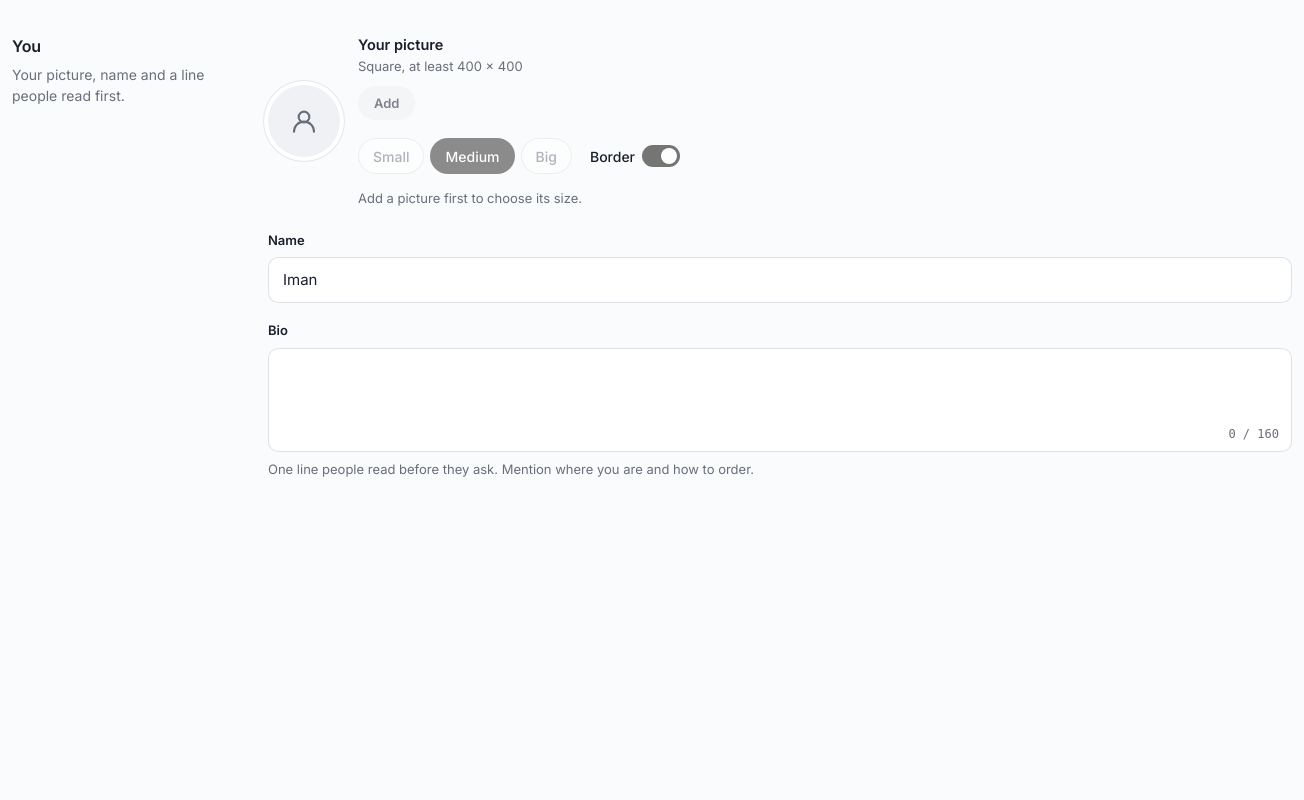
Test case: ProfileEditor › still offers Retry for a 5xx, with the server's own message
Type "!" into the field named "Display name".
click(780, 280); type("!")  # box [268, 257, 1292, 303]
Wait 600 ms
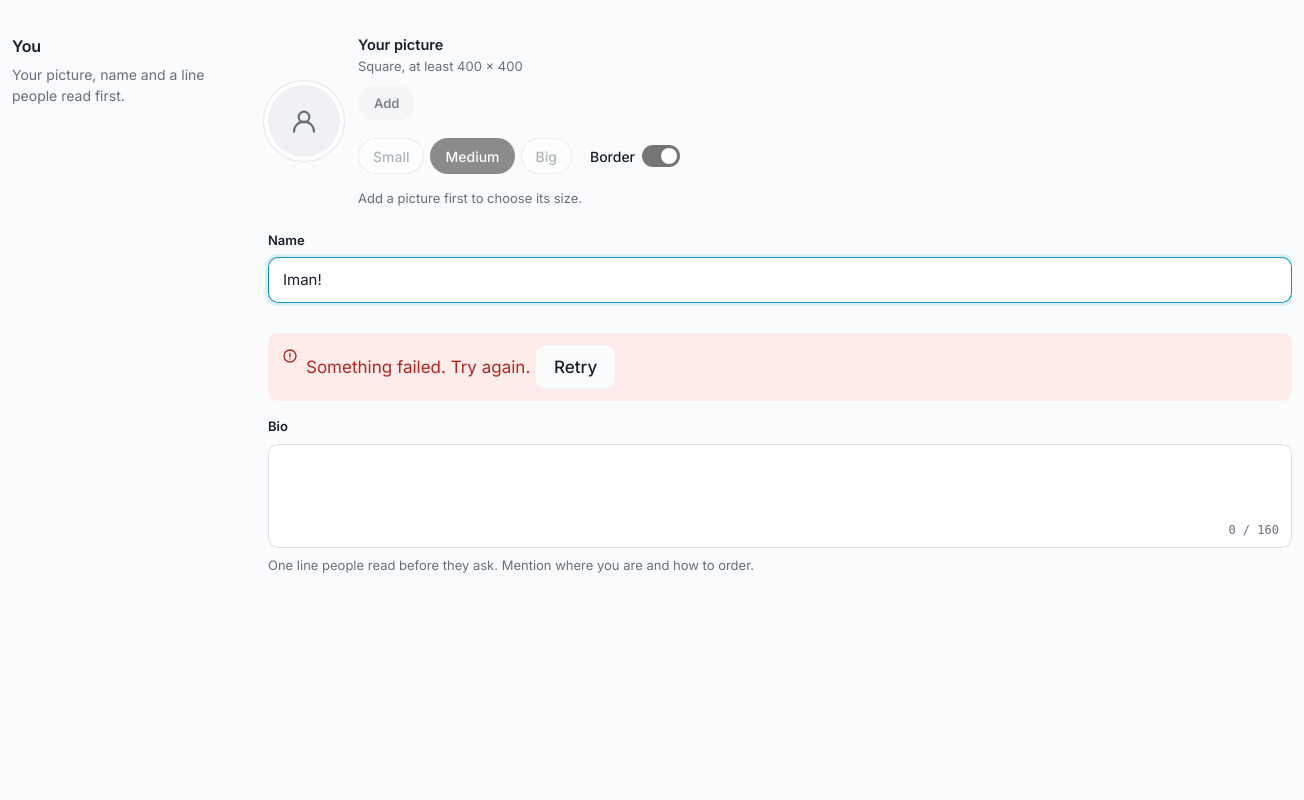
Expected: the message shows "Something failed. Try again.", [306, 357, 530, 377]
Expected: the button "Retry" is shown, [535, 345, 616, 389]
